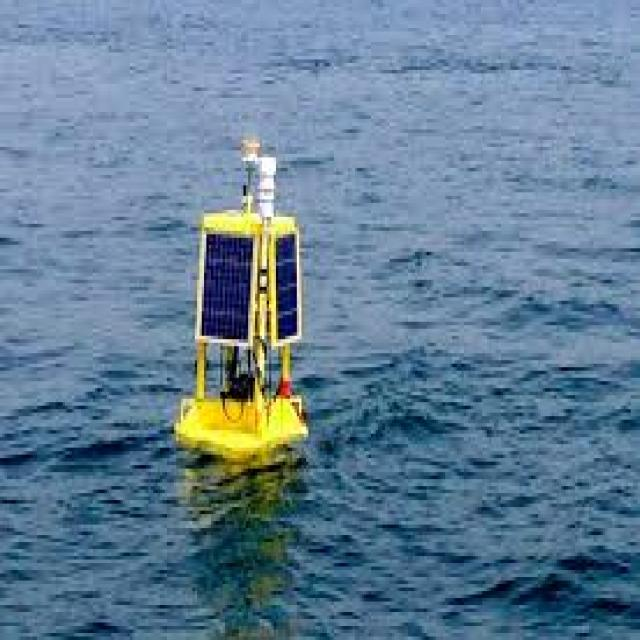buoy: (174, 121, 316, 479)
